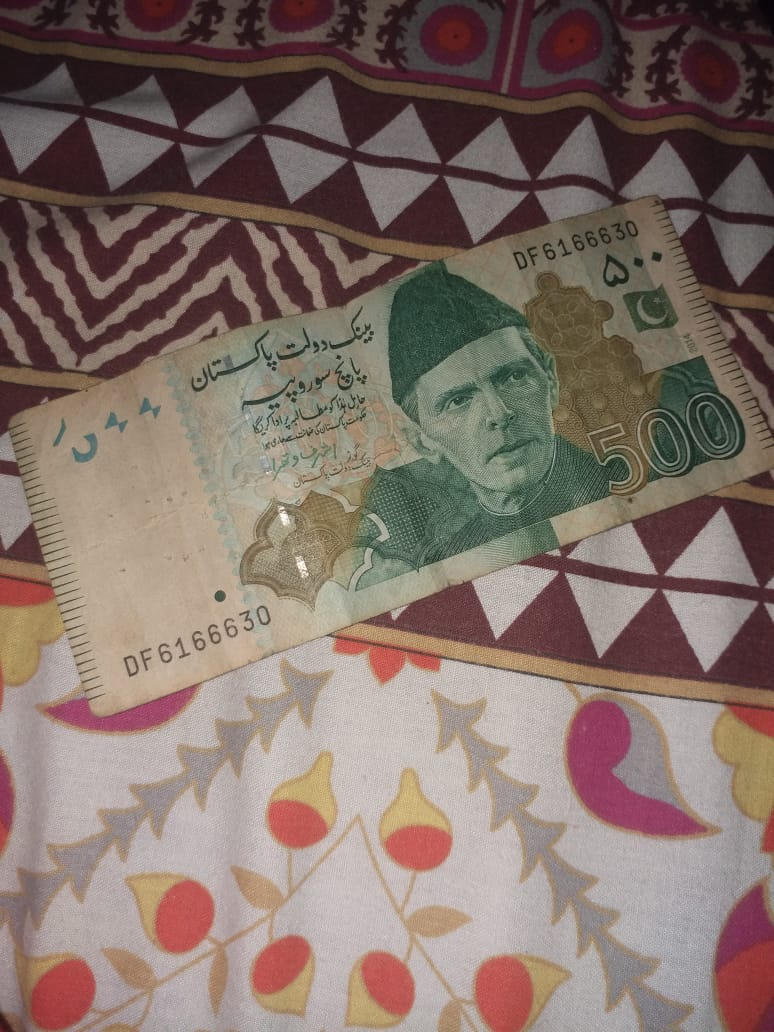500 rupee: (9, 180, 760, 733)
